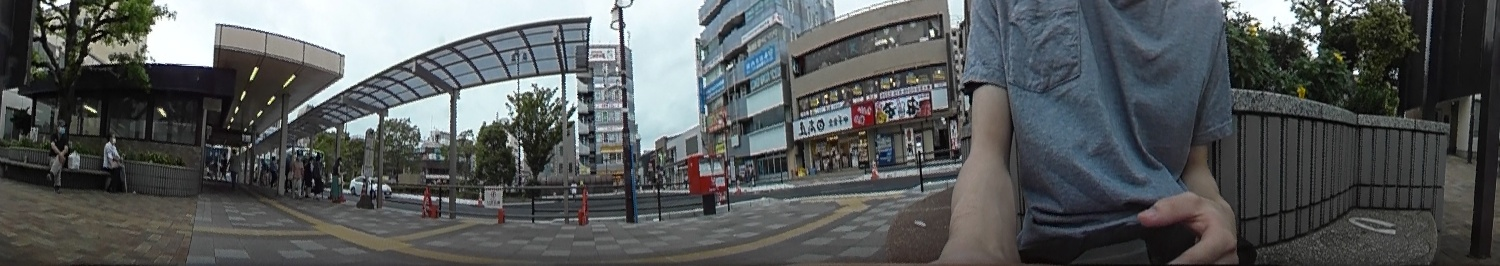difficult_person: (330, 155, 344, 204), (227, 148, 240, 180), (293, 153, 302, 196), (266, 154, 277, 186), (315, 153, 323, 195)
person: (46, 116, 71, 189), (103, 130, 128, 193)
